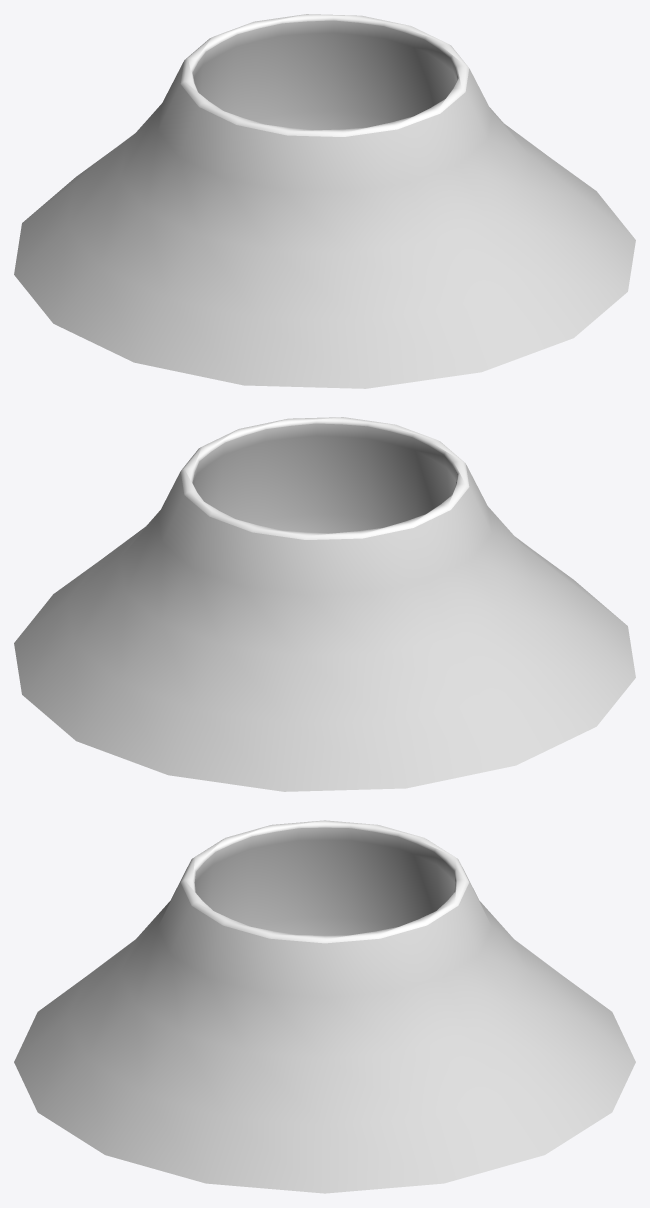
Rendered from crator.fbx.
The picture shows the model from 3 angles, top to bottom: view 1: azimuth 30°, elevation 25°; view 2: azimuth 150°, elevation 25°; view 3: azimuth 270°, elevation 25°; orthographic projection.
Parts seen in each view (by area): view 1: Cylinder; view 2: Cylinder; view 3: Cylinder.
Boxes of the visible parts, box(x1,y1,x2,y2) form: Cylinder: box(14, 14, 635, 388); Cylinder: box(14, 417, 635, 791); Cylinder: box(14, 820, 635, 1193).
Bounding box in the file's own units: 4.49 × 1.45 × 4.49.
Materials: 1 (1 with a texture image).
